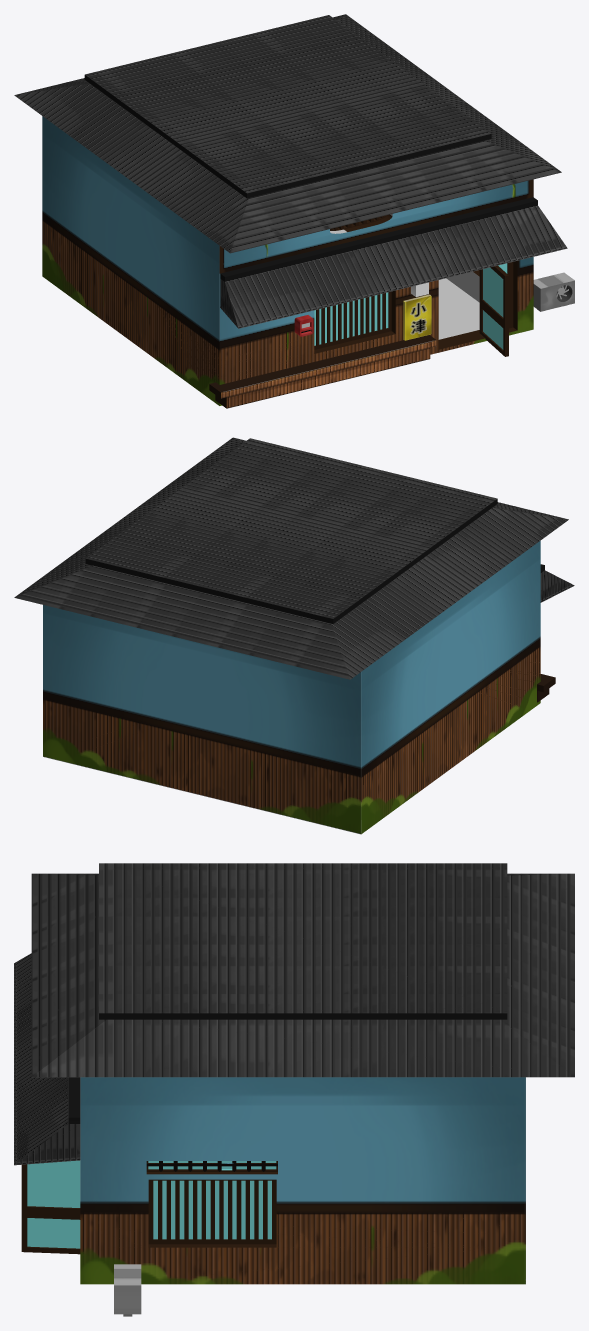
File: House_Ozu.fbx
3 views of the same model, one above another, from view 1: azimuth 30°, elevation 25°; view 2: azimuth 150°, elevation 25°; view 3: azimuth 270°, elevation 25° (orthographic). The views are drawn at different scales.
Visible parts, largest first — view 1: Top.001, building.001, Cube.240, Cube.225, Cube.241, Cube.244, Cube.247, Cube.239; view 2: building.001, Top.001, Cube.240; view 3: Top.001, building.001, Cube.236, Cube.240, Cube.244, Cube.242, Cube.247.
Part boxes in pixels (<box>): Top.001: <box>14,14,561,253</box>; building.001: <box>42,116,533,405</box>; Cube.240: <box>220,197,567,328</box>; Cube.225: <box>209,335,436,408</box>; Cube.241: <box>314,291,391,349</box>; Cube.244: <box>479,265,508,356</box>; Cube.247: <box>533,272,574,311</box>; Cube.239: <box>403,294,431,340</box>; building.001: <box>43,541,540,834</box>; Top.001: <box>14,437,568,679</box>; Cube.240: <box>540,564,574,602</box>; Top.001: <box>31,863,574,1077</box>; building.001: <box>80,1077,525,1284</box>; Cube.236: <box>148,1179,276,1244</box>; Cube.240: <box>14,953,80,1165</box>; Cube.244: <box>21,1160,80,1254</box>; Cube.242: <box>146,1161,277,1171</box>; Cube.247: <box>114,1264,141,1316</box>.
Bounding box in the file's own units: 1609 × 812 × 1647.
